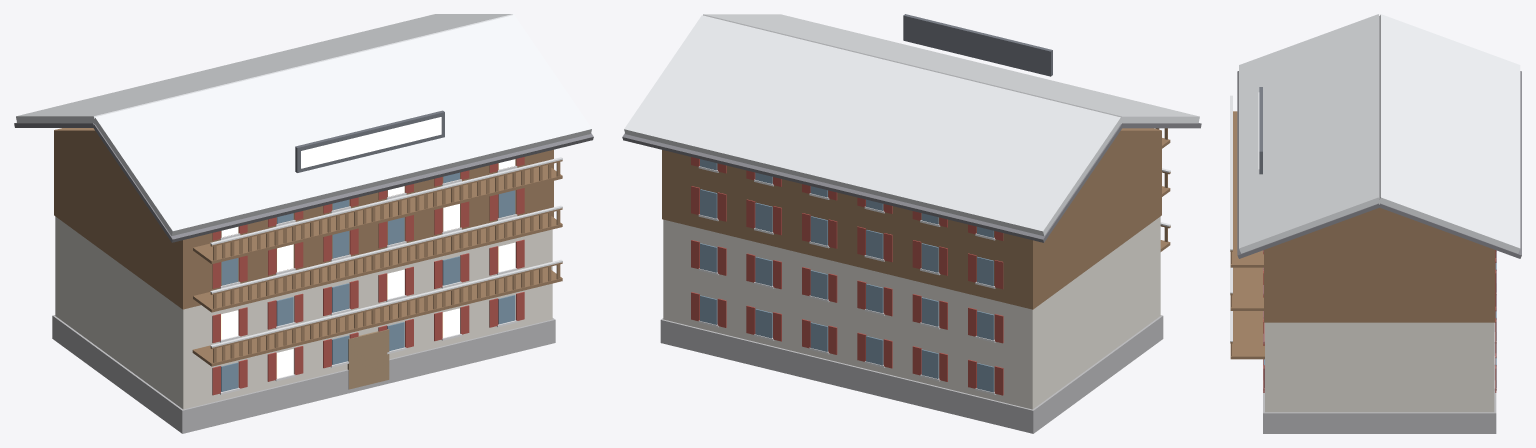
File: hotel.glb
3 views of the same model, side by side, from view 1: azimuth 30°, elevation 25°; view 2: azimuth 150°, elevation 25°; view 3: azimuth 270°, elevation 25° (orthographic). The views are drawn at different scales.
Parts seen in each view (by area): view 1: hotel; view 2: hotel; view 3: hotel.
Boxes of the visible parts, x1,y1,x2,y2 form: hotel: (14, 14, 593, 433); hotel: (622, 14, 1201, 433); hotel: (1230, 14, 1521, 433).
Bounding box in the file's own units: 22.8 × 14.24 × 15.27.
